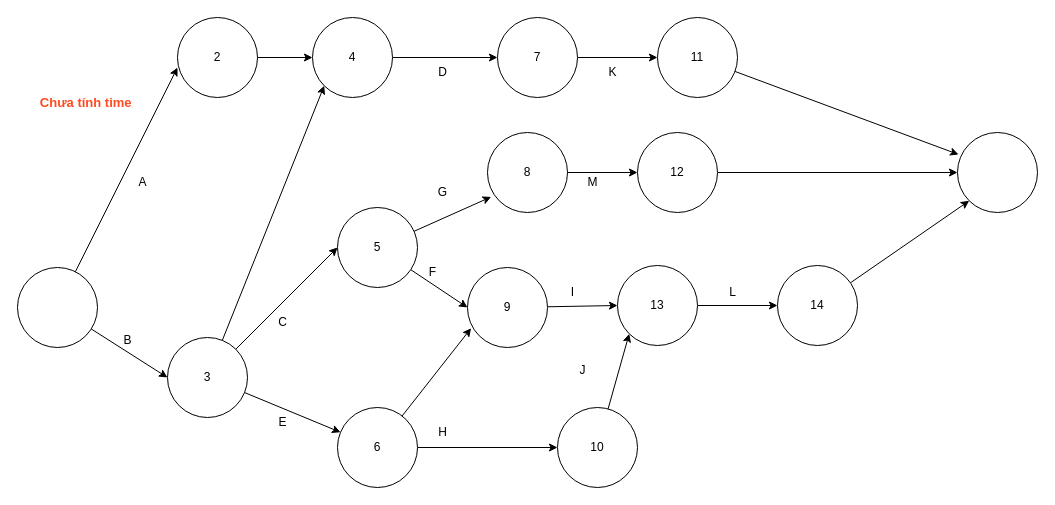
Some shapes in this 1055 by 505 pixel diagram are drawn without their labels. Each missing label, with the centre of its shape:
1/BĐ: point (57, 307)
KT: point (997, 172)
